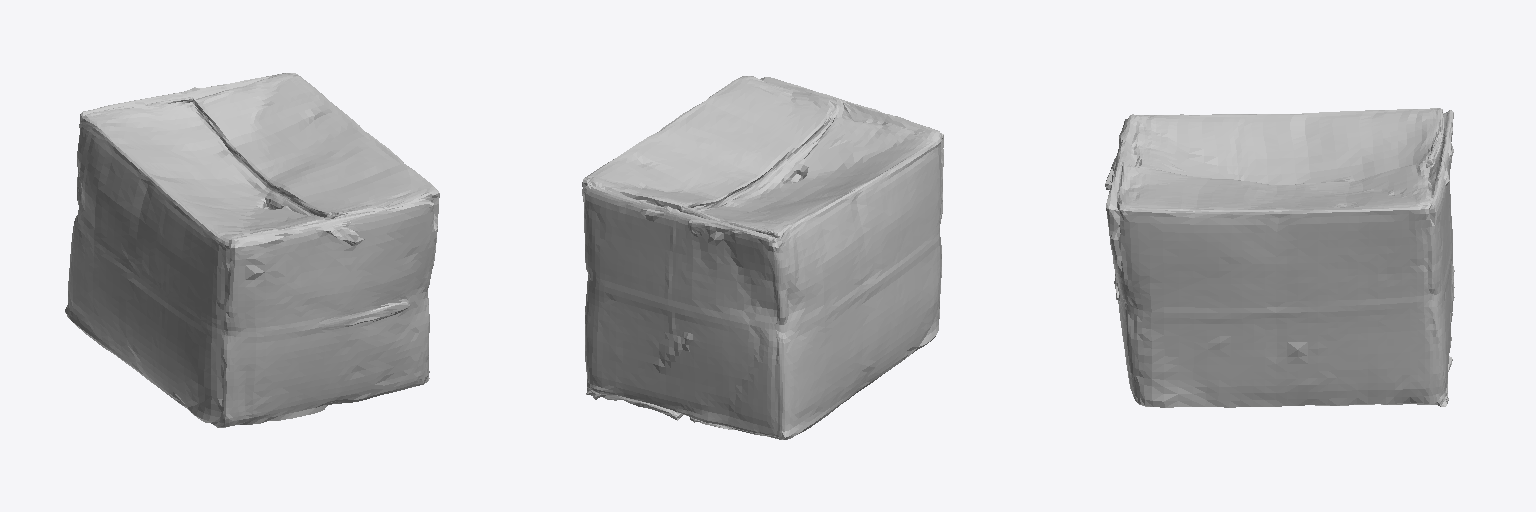
The model's file is cardboard_box_01_4k.obj.
3 views of the same model, side by side, from view 1: azimuth 30°, elevation 25°; view 2: azimuth 150°, elevation 25°; view 3: azimuth 270°, elevation 25° (orthographic).
Parts seen in each view (by area): view 1: cardboard_box_01; view 2: cardboard_box_01; view 3: cardboard_box_01.
Boxes of the visible parts, <box> form: cardboard_box_01: <box>65,73,439,427</box>; cardboard_box_01: <box>582,76,943,439</box>; cardboard_box_01: <box>1105,108,1454,407</box>.
Bounding box in the file's own units: 0.387 × 0.3418 × 0.5159.